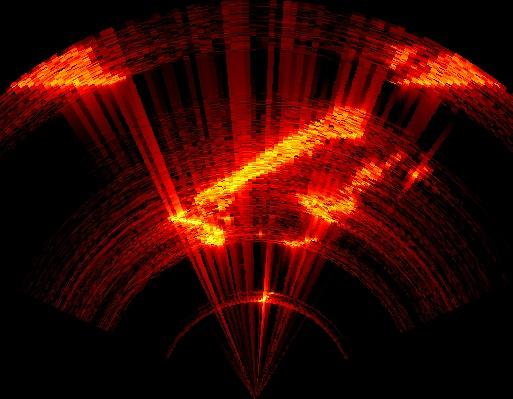shipwreck: (170, 108, 367, 244), (296, 152, 404, 223), (405, 162, 430, 188), (283, 235, 316, 246)
